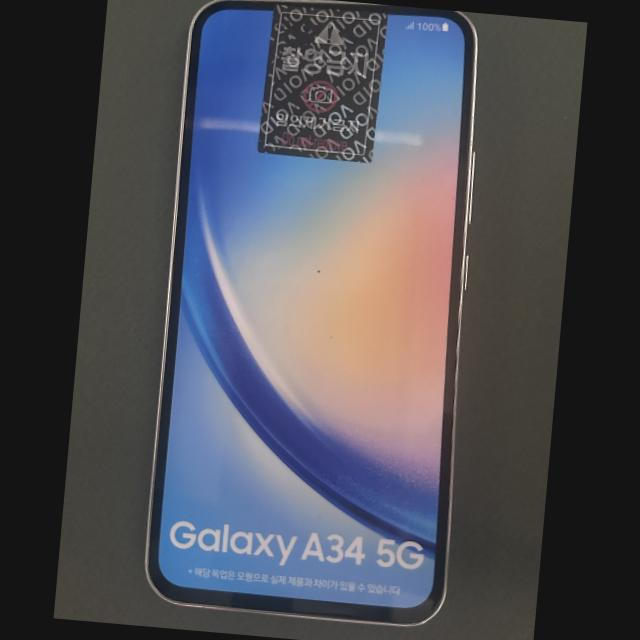phone: (147, 0, 476, 624)
sticker: (257, 2, 388, 163)
